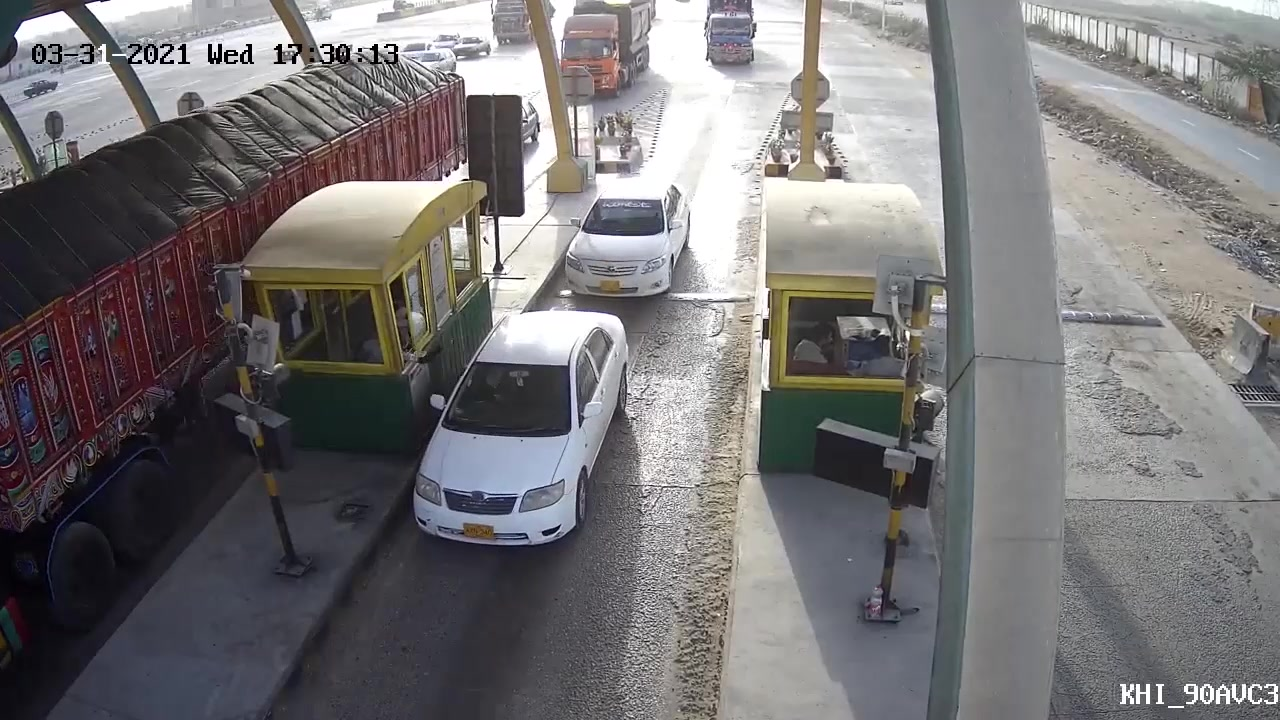F1: (396, 309, 631, 552), (561, 169, 697, 299)
